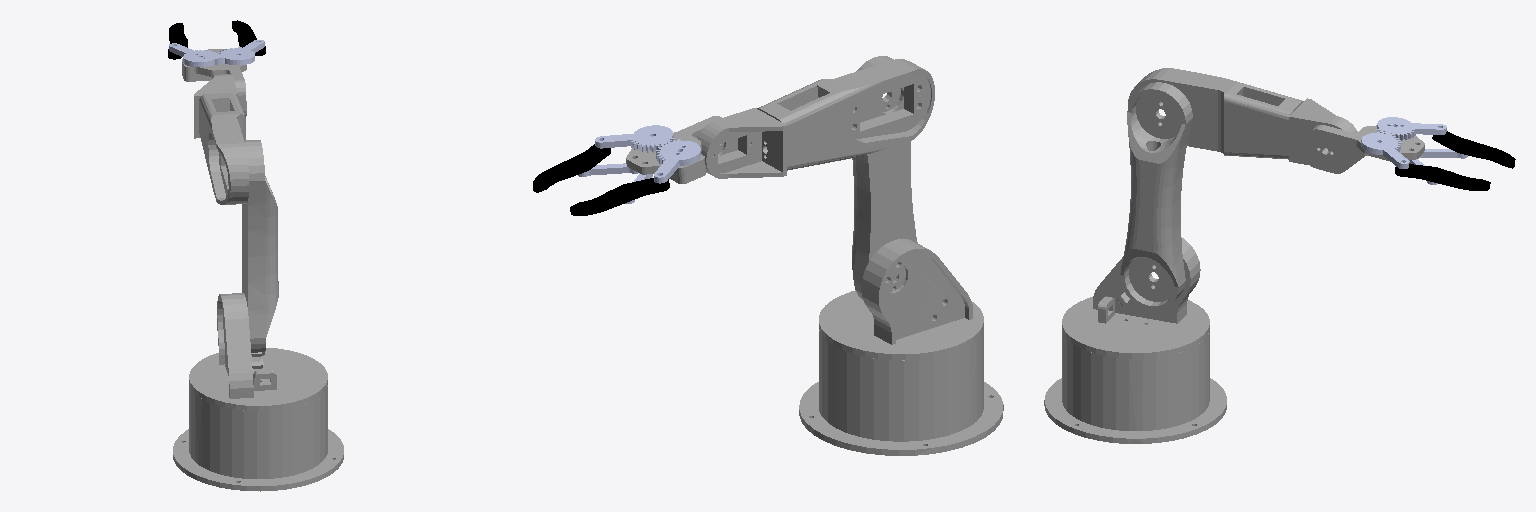
URDF robot description (URDF):
<?xml version="1.0" encoding="utf-8"?>
<!-- This URDF was automatically created by SolidWorks to URDF Exporter! Originally created by Stephen Brawner (brawner@gmail.com) 
     Commit Version: 1.6.0-4-g7f85cfe  Build Version: 1.6.7995.38578
     For more information, please see http://wiki.ros.org/sw_urdf_exporter -->
<robot
  name="URDF">
  <link
    name="base_link">
    <inertial>
      <origin
        xyz="-0.000884042011461788 -2.68522483504429E-07 0.0227074694415587"
        rpy="0 0 0" />
      <mass
        value="0.120126872366986" />
      <inertia
        ixx="0.000162859007223856"
        ixy="-5.6707451806411E-10"
        ixz="-4.94108087729578E-06"
        iyy="0.000172859696623732"
        iyz="-2.81101318593247E-10"
        izz="0.000260325317952799" />
    </inertial>
    <visual>
      <origin
        xyz="0 0 0"
        rpy="0 0 0" />
      <geometry>
        <mesh
          filename="package://URDF/meshes/base_link.STL" />
      </geometry>
      <material
        name="">
        <color
          rgba="0.698039215686274 0.698039215686274 0.698039215686274 1" />
      </material>
    </visual>
    <collision>
      <origin
        xyz="0 0 0"
        rpy="0 0 0" />
      <geometry>
        <mesh
          filename="package://URDF/meshes/base_link.STL" />
      </geometry>
    </collision>
  </link>
  <link
    name="shoulder">
    <inertial>
      <origin
        xyz="0.00137847335109012 0.0156184793547242 -0.00728640518089488"
        rpy="0 0 0" />
      <mass
        value="0.0771455988127503" />
      <inertia
        ixx="5.28416792913944E-05"
        ixy="-5.74251896080356E-06"
        ixz="1.25534173013257E-06"
        iyy="6.51004667370908E-05"
        iyz="7.82255942304313E-06"
        izz="6.27383799941438E-05" />
    </inertial>
    <visual>
      <origin
        xyz="0 0 0"
        rpy="0 0 0" />
      <geometry>
        <mesh
          filename="package://URDF/meshes/shoulder.STL" />
      </geometry>
      <material
        name="">
        <color
          rgba="0.698039215686274 0.698039215686274 0.698039215686274 1" />
      </material>
    </visual>
    <collision>
      <origin
        xyz="0 0 0"
        rpy="0 0 0" />
      <geometry>
        <mesh
          filename="package://URDF/meshes/shoulder.STL" />
      </geometry>
    </collision>
  </link>
  <joint
    name="shoulder"
    type="revolute">
    <origin
      xyz="0 0 0.057"
      rpy="1.5708 0 1.1754" />
    <parent
      link="base_link" />
    <child
      link="shoulder" />
    <axis
      xyz="0 1 0" />
    <limit
      lower="-1.5707"
      upper="1.5707"
      effort="3"
      velocity="3" />
  </joint>
  <link
    name="elbow">
    <inertial>
      <origin
        xyz="8.33915294182726E-05 0.0596540948617726 -0.000712431979583381"
        rpy="0 0 0" />
      <mass
        value="0.0888458236237444" />
      <inertia
        ixx="0.000135296929157603"
        ixy="5.84218470195738E-07"
        ixz="-3.18730655432891E-08"
        iyy="1.3267817635665E-05"
        iyz="1.34122198729035E-07"
        izz="0.000141437268447452" />
    </inertial>
    <visual>
      <origin
        xyz="0 0 0"
        rpy="0 0 0" />
      <geometry>
        <mesh
          filename="package://URDF/meshes/elbow.STL" />
      </geometry>
      <material
        name="">
        <color
          rgba="0.698039215686274 0.698039215686274 0.698039215686274 1" />
      </material>
    </visual>
    <collision>
      <origin
        xyz="0 0 0"
        rpy="0 0 0" />
      <geometry>
        <mesh
          filename="package://URDF/meshes/elbow.STL" />
      </geometry>
    </collision>
  </link>
  <joint
    name="elbow"
    type="revolute">
    <origin
      xyz="0.011458 0.037477 0"
      rpy="3.1416 0 3.0995" />
    <parent
      link="shoulder" />
    <child
      link="elbow" />
    <axis
      xyz="0 0 1" />
    <limit
      lower="-1.5707"
      upper="1.5707"
      effort="3"
      velocity="3" />
  </joint>
  <link
    name="rest">
    <inertial>
      <origin
        xyz="-0.000117177420813491 -0.0408715532218013 0.015152337193664"
        rpy="0 0 0" />
      <mass
        value="0.0841589044535185" />
      <inertia
        ixx="9.38358578901634E-05"
        ixy="-5.17709619524144E-07"
        ixz="-9.03519792732391E-08"
        iyy="1.9431231755649E-05"
        iyz="-8.42349600705436E-07"
        izz="0.000103998346950382" />
    </inertial>
    <visual>
      <origin
        xyz="0 0 0"
        rpy="0 0 0" />
      <geometry>
        <mesh
          filename="package://URDF/meshes/rest.STL" />
      </geometry>
      <material
        name="">
        <color
          rgba="0.698039215686274 0.698039215686274 0.698039215686274 1" />
      </material>
    </visual>
    <collision>
      <origin
        xyz="0 0 0"
        rpy="0 0 0" />
      <geometry>
        <mesh
          filename="package://URDF/meshes/rest.STL" />
      </geometry>
    </collision>
  </link>
  <joint
    name="wrist"
    type="revolute">
    <origin
      xyz="0 0.12 0"
      rpy="0 0 -1.6128" />
    <parent
      link="elbow" />
    <child
      link="rest" />
    <axis
      xyz="0 0 1" />
    <limit
      lower="-1.5707"
      upper="1.5707"
      effort="3"
      velocity="3" />
  </joint>
  <link
    name="rolling">
    <inertial>
      <origin
        xyz="0.00502760760291043 0.0109445217827496 -0.00535441479370665"
        rpy="0 0 0" />
      <mass
        value="0.0205470147246711" />
      <inertia
        ixx="4.87359314188565E-06"
        ixy="9.22778160473993E-09"
        ixz="-3.03731226440699E-09"
        iyy="3.3382572720661E-06"
        iyz="7.36592017982319E-07"
        izz="6.17663535687526E-06" />
    </inertial>
    <visual>
      <origin
        xyz="0 0 0"
        rpy="0 0 0" />
      <geometry>
        <mesh
          filename="package://URDF/meshes/rolling.STL" />
      </geometry>
      <material
        name="">
        <color
          rgba="0.698039215686274 0.698039215686274 0.698039215686274 1" />
      </material>
    </visual>
    <collision>
      <origin
        xyz="0 0 0"
        rpy="0 0 0" />
      <geometry>
        <mesh
          filename="package://URDF/meshes/rolling.STL" />
      </geometry>
    </collision>
  </link>
  <joint
    name="rolling"
    type="revolute">
    <origin
      xyz="0.0055 -0.099677 0.0145"
      rpy="0 0 -3.1416" />
    <parent
      link="rest" />
    <child
      link="rolling" />
    <axis
      xyz="0 1 0" />
    <limit
      lower="-1.5707"
      upper="1.5707"
      effort="3"
      velocity="3" />
  </joint>
  <link
    name="pitch">
    <inertial>
      <origin
        xyz="-0.0116105304119787 -0.023613452107438 0.00616457125803832"
        rpy="0 0 0" />
      <mass
        value="0.0215001123670908" />
      <inertia
        ixx="9.88043259690671E-06"
        ixy="2.05975136147418E-06"
        ixz="-5.1726660151017E-07"
        iyy="3.58978413116279E-06"
        iyz="1.92461514332315E-06"
        izz="1.10546290579735E-05" />
    </inertial>
    <visual>
      <origin
        xyz="0 0 0"
        rpy="0 0 0" />
      <geometry>
        <mesh
          filename="package://URDF/meshes/pitch.STL" />
      </geometry>
      <material
        name="">
        <color
          rgba="0.698039215686274 0.698039215686274 0.698039215686274 1" />
      </material>
    </visual>
    <collision>
      <origin
        xyz="0 0 0"
        rpy="0 0 0" />
      <geometry>
        <mesh
          filename="package://URDF/meshes/pitch.STL" />
      </geometry>
    </collision>
  </link>
  <joint
    name="pitch"
    type="revolute">
    <origin
      xyz="0.00500000000000003 0.0226770569861576 0"
      rpy="2.47905368074654 -1.57079630572147 0.76162796200405" />
    <parent
      link="rolling" />
    <child
      link="pitch" />
    <axis
      xyz="1 0 0" />
    <limit
      lower="-1.5707"
      upper="1.5707"
      effort="3"
      velocity="3" />
  </joint>
  <link
    name="gripper">
    <inertial>
      <origin
        xyz="0.00568899451062876 0.000685064865752177 -0.00200000000000133"
        rpy="0 0 0" />
      <mass
        value="0.00259243385468487" />
      <inertia
        ixx="9.23560775428683E-08"
        ixy="9.84193522417756E-09"
        ixz="4.98385162042722E-22"
        iyy="3.50553215344432E-07"
        iyz="5.90796371937889E-23"
        izz="4.35996135941474E-07" />
    </inertial>
    <visual>
      <origin
        xyz="0 0 0"
        rpy="0 0 0" />
      <geometry>
        <mesh
          filename="package://URDF/meshes/gripper.STL" />
      </geometry>
      <material
        name="">
        <color
          rgba="0.792156862745098 0.819607843137255 0.933333333333333 1" />
      </material>
    </visual>
    <collision>
      <origin
        xyz="0 0 0"
        rpy="0 0 0" />
      <geometry>
        <mesh
          filename="package://URDF/meshes/gripper.STL" />
      </geometry>
    </collision>
  </link>
  <joint
    name="gripper"
    type="revolute">
    <origin
      xyz="0.0039101 -0.037783 0.0145"
      rpy="3.1416 0 -1.0597" />
    <parent
      link="pitch" />
    <child
      link="gripper" />
    <axis
      xyz="0 0 1" />
    <limit
      lower="-1.5707"
      upper="1.5707"
      effort="3"
      velocity="3" />
  </joint>
  <link
    name="hand1">
    <inertial>
      <origin
        xyz="-0.0259511214514078 0.00395106521630019 0.00249999999999792"
        rpy="0 0 0" />
      <mass
        value="0.00304957364089639" />
      <inertia
        ixx="7.64979191048675E-08"
        ixy="1.79084335338181E-07"
        ixz="-7.92722325841081E-22"
        iyy="8.51913197582181E-07"
        iyz="1.76140696834782E-22"
        izz="9.1570455984998E-07" />
    </inertial>
    <visual>
      <origin
        xyz="0 0 0"
        rpy="0 0 0" />
      <geometry>
        <mesh
          filename="package://URDF/meshes/hand1.STL" />
      </geometry>
      <material
        name="">
        <color
          rgba="0 0 0 1" />
      </material>
    </visual>
    <collision>
      <origin
        xyz="0 0 0"
        rpy="0 0 0" />
      <geometry>
        <mesh
          filename="package://URDF/meshes/hand1.STL" />
      </geometry>
    </collision>
  </link>
  <joint
    name="hand1"
    type="fixed">
    <origin
      xyz="0.0305 0 0"
      rpy="0 0 -2.2812" />
    <parent
      link="gripper" />
    <child
      link="hand1" />
    <axis
      xyz="0 0 0" />
    <mimic
      joint="gripper"
      multiplier="1"
      offset="0" />
  </joint>
  <link
    name="follower-gear">
    <inertial>
      <origin
        xyz="0.00559728875614893 0.000674021719269072 0.00200000000000211"
        rpy="0 0 0" />
      <mass
        value="0.0026349081873614" />
      <inertia
        ixx="9.24502678557936E-08"
        ixy="9.6790671490699E-09"
        ixz="-4.05007433684965E-22"
        iyy="3.5284040626968E-07"
        iyz="1.89407105033429E-22"
        izz="4.3826425229251E-07" />
    </inertial>
    <visual>
      <origin
        xyz="0 0 0"
        rpy="0 0 0" />
      <geometry>
        <mesh
          filename="package://URDF/meshes/follower-gear.STL" />
      </geometry>
      <material
        name="">
        <color
          rgba="0.792156862745098 0.819607843137255 0.933333333333333 1" />
      </material>
    </visual>
    <collision>
      <origin
        xyz="0 0 0"
        rpy="0 0 0" />
      <geometry>
        <mesh
          filename="package://URDF/meshes/follower-gear.STL" />
      </geometry>
    </collision>
  </link>
  <joint
    name="follower-gear"
    type="revolute">
    <origin
      xyz="-0.023005 -0.037784 0.0145"
      rpy="0 0 -2.1964" />
    <parent
      link="pitch" />
    <child
      link="follower-gear" />
    <axis
      xyz="0 0 1" />
    <limit
      lower="-1.5707"
      upper="1.5707"
      effort="3"
      velocity="3" />
    <mimic
      joint="gripper"
      multiplier="1"
      offset="0" />
  </joint>
  <link
    name="hand2">
    <inertial>
      <origin
        xyz="-0.0259511214503139 0.00395106521859902 0.00250000000000208"
        rpy="0 0 0" />
      <mass
        value="0.00304957364089639" />
      <inertia
        ixx="7.64979191088991E-08"
        ixy="1.79084335346909E-07"
        ixz="9.15946215415795E-22"
        iyy="8.51913197578148E-07"
        iyz="-2.22753219100067E-22"
        izz="9.15704559849979E-07" />
    </inertial>
    <visual>
      <origin
        xyz="0 0 0"
        rpy="0 0 0" />
      <geometry>
        <mesh
          filename="package://URDF/meshes/hand2.STL" />
      </geometry>
      <material
        name="">
        <color
          rgba="0 0 0 1" />
      </material>
    </visual>
    <collision>
      <origin
        xyz="0 0 0"
        rpy="0 0 0" />
      <geometry>
        <mesh
          filename="package://URDF/meshes/hand2.STL" />
      </geometry>
    </collision>
  </link>
  <joint
    name="hand2"
    type="fixed">
    <origin
      xyz="0.0305 0 -0.005"
      rpy="0 0 -2.1872" />
    <parent
      link="follower-gear" />
    <child
      link="hand2" />
    <axis
      xyz="0 0 0" />
    <limit
      lower="-1.5707"
      upper="1.5707"
      effort="0"
      velocity="0" />
    <mimic
      joint="gripper"
      multiplier="-1"
      offset="0" />
  </joint>
  <link
    name="link1">
    <inertial>
      <origin
        xyz="0.0420511056348878 0.00437046116424403 -0.00699999999999787"
        rpy="0 0 0" />
      <mass
        value="0.000798763302631051" />
      <inertia
        ixx="3.63251111777044E-09"
        ixy="2.34712498811922E-23"
        ixz="-1.15525183875645E-22"
        iyy="1.02921795976216E-07"
        iyz="5.64449013861333E-25"
        izz="1.04424271620304E-07" />
    </inertial>
    <visual>
      <origin
        xyz="0 0 0"
        rpy="0 0 0" />
      <geometry>
        <mesh
          filename="package://URDF/meshes/link1.STL" />
      </geometry>
      <material
        name="">
        <color
          rgba="0.792156862745098 0.819607843137255 0.933333333333333 1" />
      </material>
    </visual>
    <collision>
      <origin
        xyz="0 0 0"
        rpy="0 0 0" />
      <geometry>
        <mesh
          filename="package://URDF/meshes/link1.STL" />
      </geometry>
    </collision>
  </link>
  <joint
    name="link1"
    type="fixed">
    <origin
      xyz="-0.023005 -0.037784 0.0145"
      rpy="0 0 -1.0009" />
    <parent
      link="pitch" />
    <child
      link="link1" />
    <axis
      xyz="0 0 0" />
    <limit
      lower="-1.5707"
      upper="1.5707"
      effort="3"
      velocity="3" />
    <mimic
      joint="gripper"
      multiplier="1"
      offset="0" />
  </joint>
  <link
    name="link2">
    <inertial>
      <origin
        xyz="0.0155 -1.38777878078145E-17 0.002"
        rpy="0 0 0" />
      <mass
        value="0.000798763302631051" />
      <inertia
        ixx="3.63251111777041E-09"
        ixy="-6.36929071665831E-23"
        ixz="-1.07050449194073E-22"
        iyy="1.02921795976216E-07"
        iyz="-3.84560992318712E-25"
        izz="1.04424271620304E-07" />
    </inertial>
    <visual>
      <origin
        xyz="0 0 0"
        rpy="0 0 0" />
      <geometry>
        <mesh
          filename="package://URDF/meshes/link2.STL" />
      </geometry>
      <material
        name="">
        <color
          rgba="0.792156862745098 0.819607843137255 0.933333333333333 1" />
      </material>
    </visual>
    <collision>
      <origin
        xyz="0 0 0"
        rpy="0 0 0" />
      <geometry>
        <mesh
          filename="package://URDF/meshes/link2.STL" />
      </geometry>
    </collision>
  </link>
  <joint
    name="link2"
    type="fixed">
    <origin
      xyz="-0.015 -0.057781 0.0055"
      rpy="0 0 -2.2374" />
    <parent
      link="pitch" />
    <child
      link="link2" />
    <axis
      xyz="0 0 0" />
    <limit
      lower="-1.5707"
      upper="1.5707"
      effort="3"
      velocity="3" />
    <mimic
      joint="gripper"
      multiplier="-1"
      offset="0" />
  </joint>
</robot>

--- Render facts (derived) ---
The picture shows the robot from 3 angles, left to right: view 1: azimuth 30°, elevation 25°; view 2: azimuth 150°, elevation 25°; view 3: azimuth 270°, elevation 25°; orthographic projection.
Robot: URDF — 12 links, 11 joints (7 revolute, 4 fixed); root link base_link; default pose: every joint at zero.
Visible links, largest first — view 1: base_link, shoulder, elbow, rest, pitch, rolling, gripper, follower-gear; view 2: base_link, shoulder, rest, elbow, rolling, pitch, hand1, hand2, follower-gear, gripper; view 3: base_link, elbow, shoulder, rest, pitch, rolling, hand2, hand1, follower-gear, gripper.
Link boxes in pixels (<box>): base_link: <box>173,385,343,491</box>; shoulder: <box>189,293,327,410</box>; elbow: <box>242,140,278,368</box>; rest: <box>199,93,248,204</box>; pitch: <box>182,49,246,116</box>; rolling: <box>194,74,237,138</box>; gripper: <box>169,43,220,66</box>; follower-gear: <box>218,40,264,64</box>; base_link: <box>799,329,1003,455</box>; shoulder: <box>819,239,983,360</box>; rest: <box>757,59,934,170</box>; elbow: <box>852,56,917,300</box>; rolling: <box>697,108,786,178</box>; pitch: <box>626,116,723,183</box>; hand1: <box>570,178,669,215</box>; hand2: <box>533,144,610,192</box>; follower-gear: <box>595,125,674,152</box>; gripper: <box>654,139,700,183</box>; base_link: <box>1044,331,1226,443</box>; elbow: <box>1117,82,1192,310</box>; shoulder: <box>1062,237,1209,358</box>; rest: <box>1128,68,1303,159</box>; pitch: <box>1305,125,1424,173</box>; rolling: <box>1289,98,1357,164</box>; hand2: <box>1395,164,1490,190</box>; hand1: <box>1432,131,1515,168</box>; follower-gear: <box>1361,131,1409,168</box>; gripper: <box>1377,117,1446,140</box>.
Size in the robot's own frame: 0.1797 by 0.3116 by 0.2369 metres.
12 mesh visuals loaded from 12 distinct referenced files (12 binary STL).
